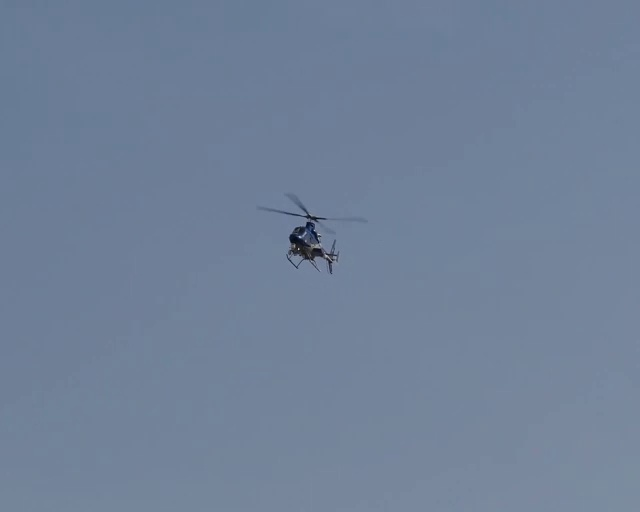HELICOPTER: (255, 191, 368, 274)
